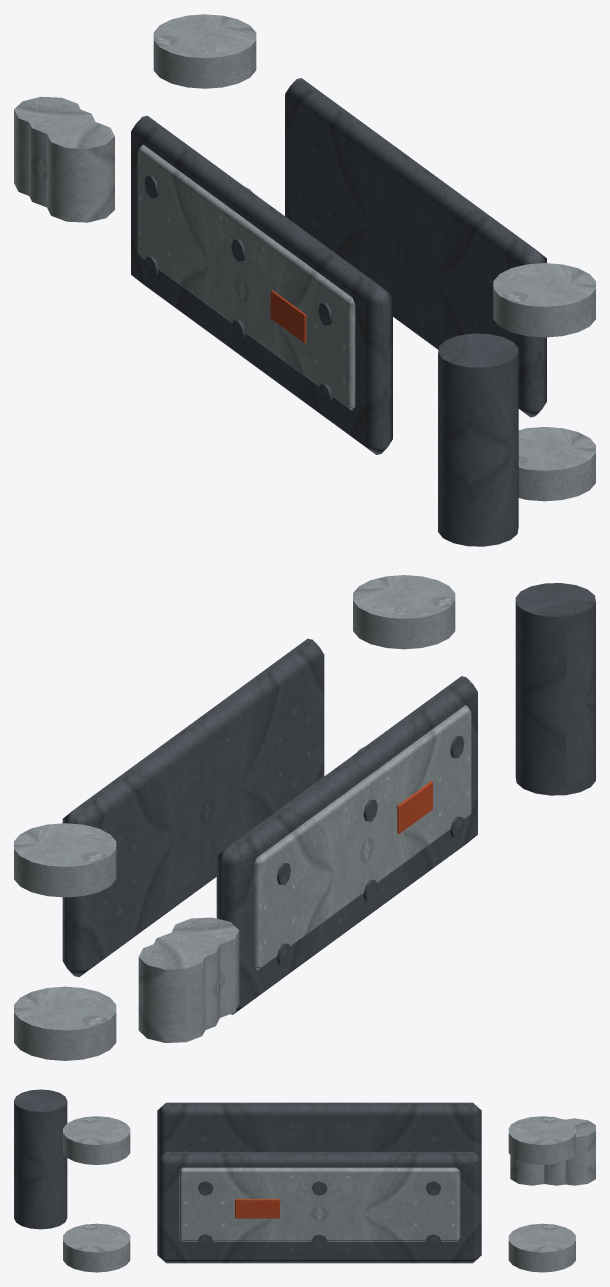
The model's file is splice.fbx.
3 renders of one model, top to bottom at view 1: azimuth 30°, elevation 25°; view 2: azimuth 150°, elevation 25°; view 3: azimuth 270°, elevation 25°, orthographic. The views are drawn at different scales.
Parts seen in each view (by area): view 1: SM_splice; view 2: SM_splice; view 3: SM_splice.
Boxes of the visible parts, box(x1,y1,x2,y2) form: SM_splice: box(14, 14, 595, 546); SM_splice: box(14, 575, 595, 1060); SM_splice: box(14, 1089, 595, 1272).
Bounding box in the file's own units: 0.3756 × 0.306 × 1.27.
3 materials, 3 textured.
